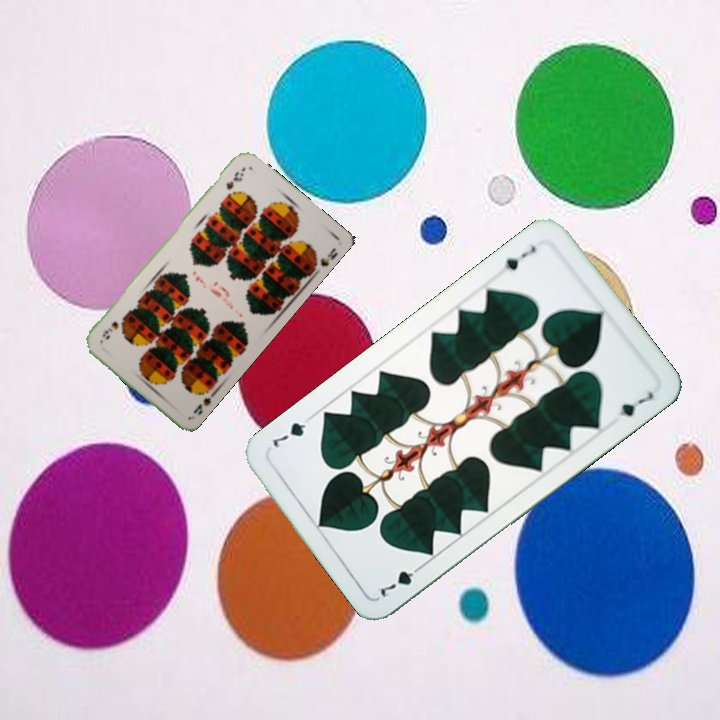G7: (374, 560, 427, 600), (500, 241, 539, 274)
S9: (189, 382, 220, 418), (222, 167, 246, 192)
